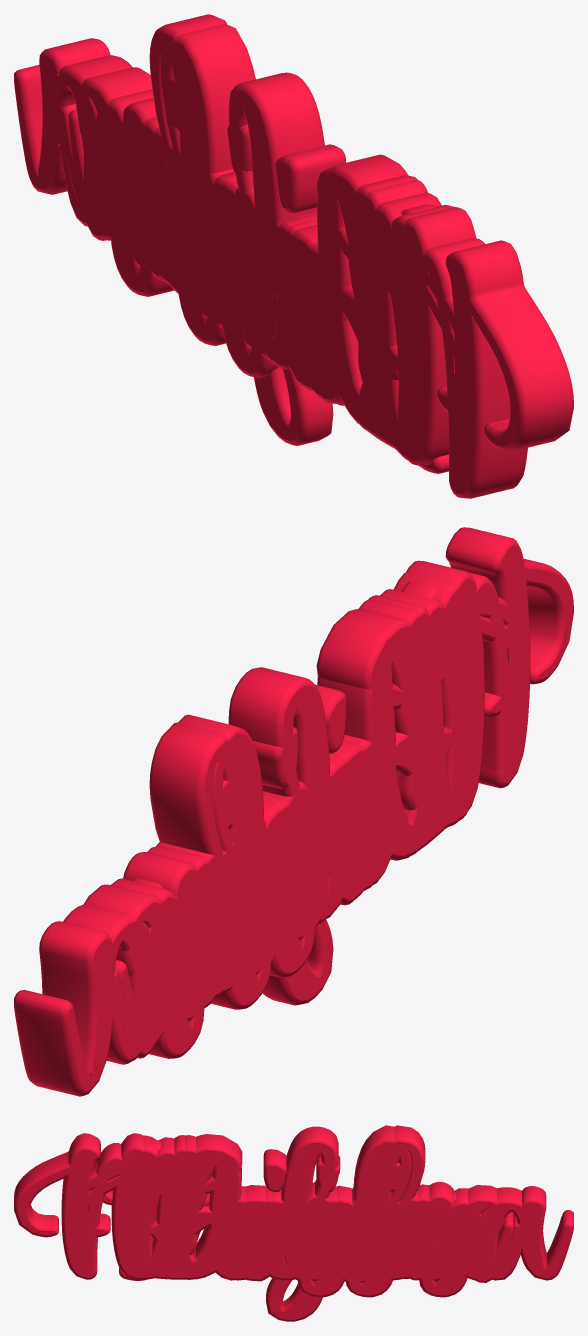
3 views of the same model, one above another, from view 1: azimuth 30°, elevation 25°; view 2: azimuth 150°, elevation 25°; view 3: azimuth 270°, elevation 25° (orthographic). The views are drawn at different scales.
Parts seen in each view (by area): view 1: Manisa-text, Micke-text, Erik-text, Robin-text, Lasse-text, Lena-text, Inger-text; view 2: Manisa-text, Micke-text, Robin-text, Erik-text, Lasse-text, Lena-text, Inger-text; view 3: Manisa-text, Micke-text, Erik-text, Robin-text, Lasse-text, Lena-text, Inger-text.
Part boxes in pixels (left/top/right/bottom): Manisa-text: left=14, top=38, right=573, bottom=498; Micke-text: left=60, top=14, right=476, bottom=465; Erik-text: left=128, top=24, right=417, bottom=423; Robin-text: left=68, top=72, right=464, bottom=448; Lasse-text: left=104, top=115, right=429, bottom=465; Lena-text: left=109, top=127, right=423, bottom=460; Inger-text: left=254, top=204, right=448, bottom=473; Manisa-text: left=14, top=527, right=573, bottom=1096; Micke-text: left=83, top=560, right=527, bottom=1050; Robin-text: left=111, top=572, right=518, bottom=1058; Erik-text: left=156, top=608, right=470, bottom=1008; Lasse-text: left=149, top=595, right=483, bottom=1020; Lena-text: left=163, top=599, right=476, bottom=1021; Inger-text: left=133, top=581, right=484, bottom=1005; Manisa-text: left=14, top=1133, right=573, bottom=1297; Micke-text: left=68, top=1125, right=520, bottom=1280; Erik-text: left=130, top=1125, right=445, bottom=1281; Robin-text: left=77, top=1126, right=513, bottom=1282; Lasse-text: left=116, top=1135, right=472, bottom=1297; Lena-text: left=122, top=1135, right=466, bottom=1282; Inger-text: left=93, top=1139, right=456, bottom=1321.
Bounding box in the file's own units: 0.05 × 0.3021 × 0.818.
1 material, 1 textured.
